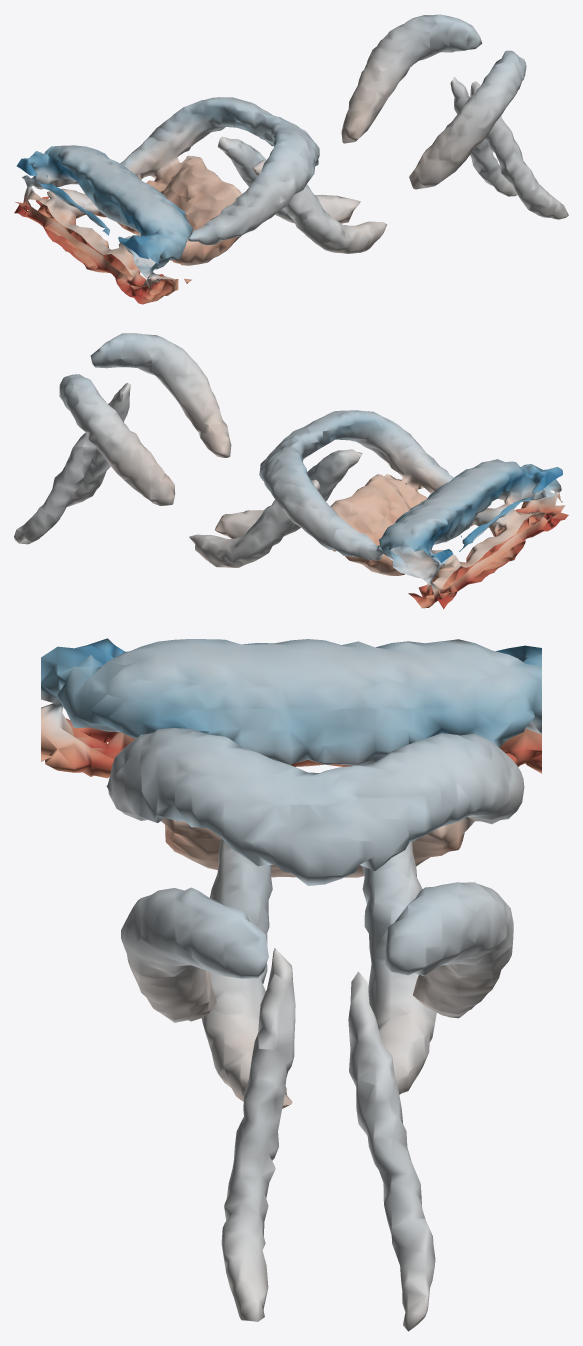
The picture shows the model from 3 angles, top to bottom: view 1: azimuth 30°, elevation 25°; view 2: azimuth 150°, elevation 25°; view 3: azimuth 270°, elevation 25°; orthographic projection. The views are drawn at different scales.
Size of the model in its own units: 5.39 by 2.06 by 2.5.
